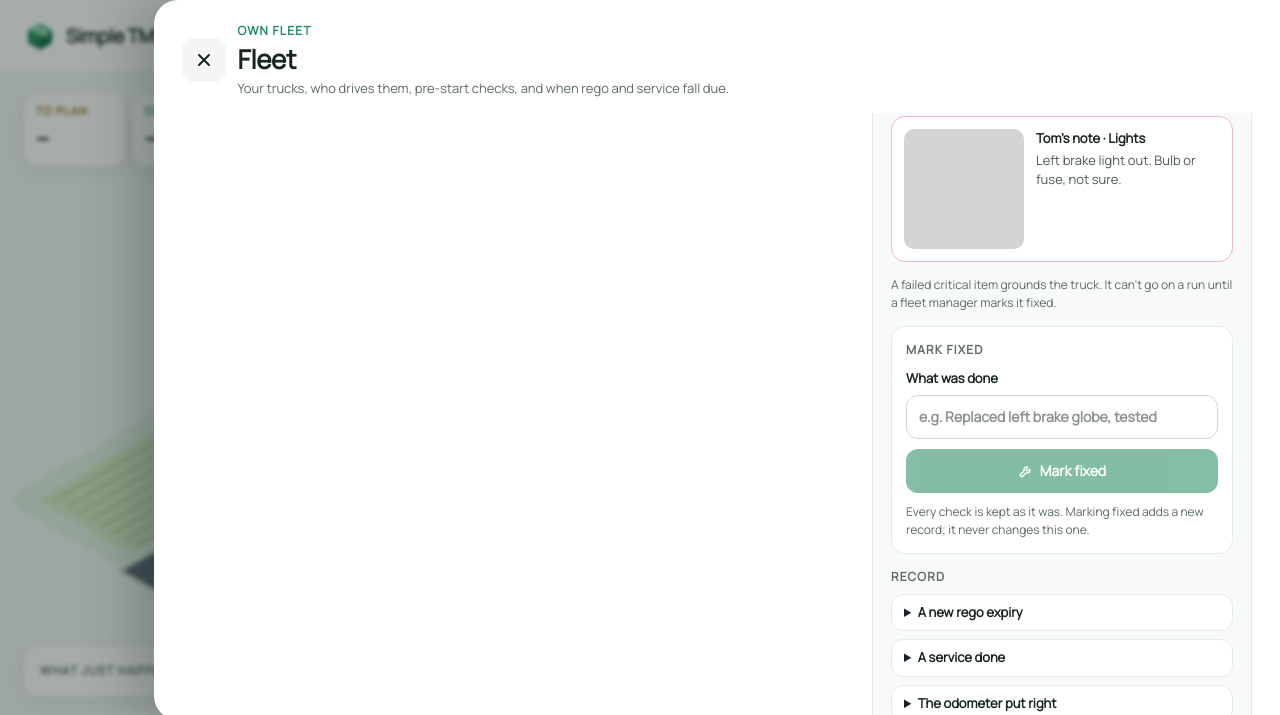
Test: Fleet › says so when another failed check came in meanwhile
(page scrolled)
Step 1. Type "New globe" into the field labelled "What was done" → (1062, 416), box [906, 394, 1218, 438]
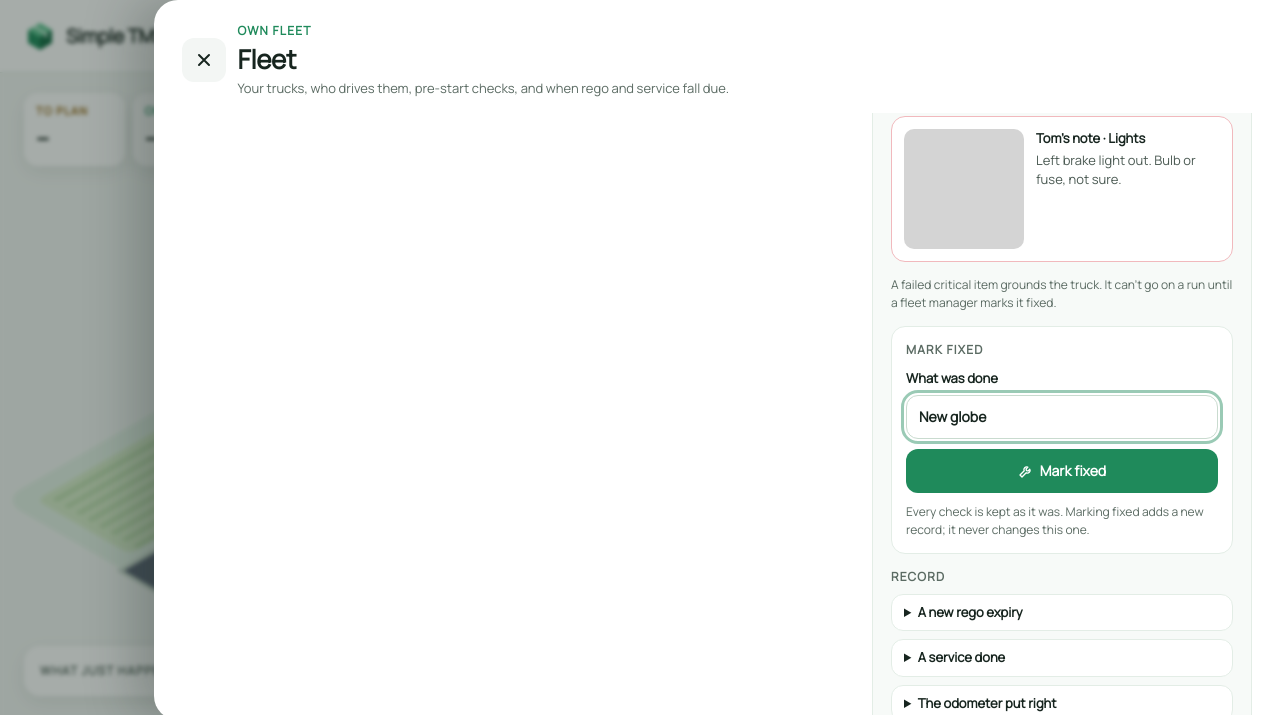
Step 2. Click the button "Mark fixed" → (1062, 470), box [906, 448, 1218, 492]
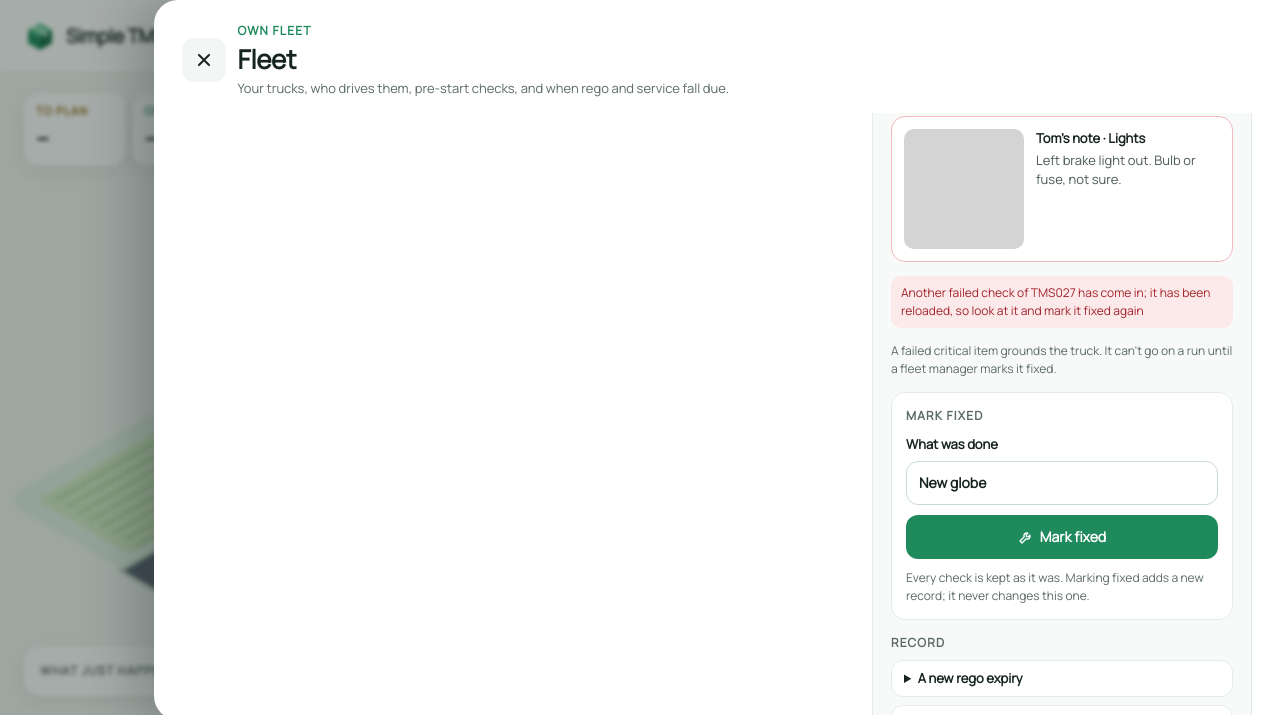
Expected: the message shows "Another failed check of TMS027 has come in", [901, 284, 1210, 319]
